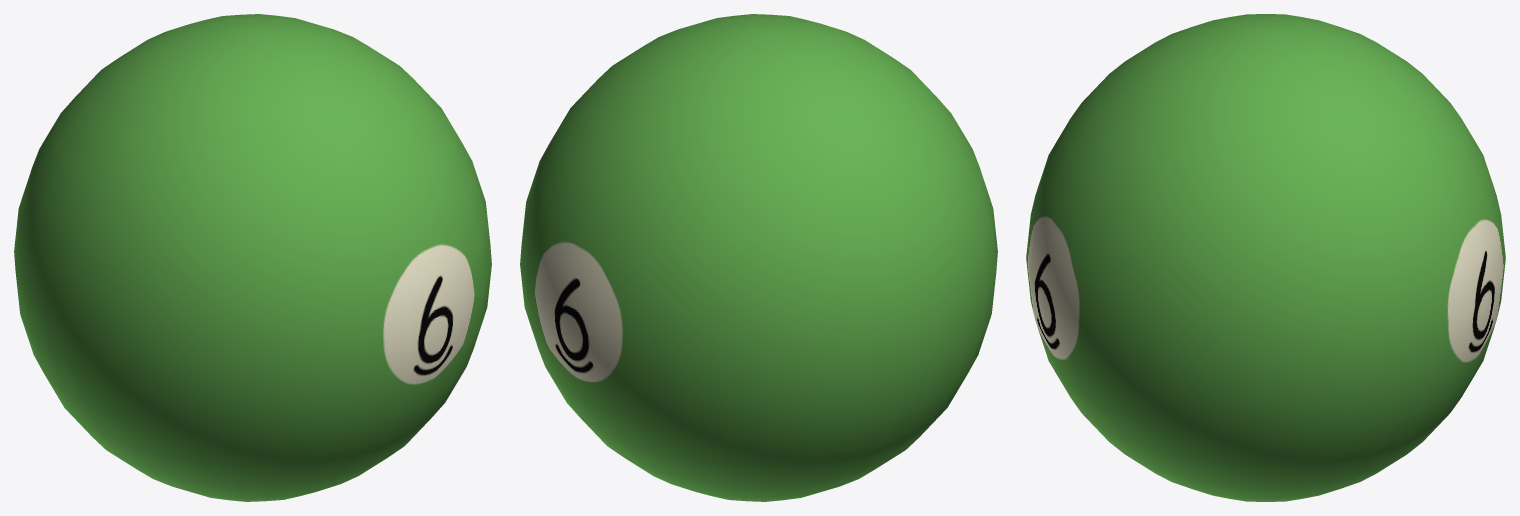
Rendered from ball_06_LOD0.dae.
3 renders of one model, left to right at view 1: azimuth 30°, elevation 25°; view 2: azimuth 150°, elevation 25°; view 3: azimuth 270°, elevation 25°, orthographic.
Visible parts, largest first — view 1: ball_06_LOD0; view 2: ball_06_LOD0; view 3: ball_06_LOD0.
Boxes of the visible parts, x1,y1,x2,y2 form: ball_06_LOD0: [14, 14, 491, 501]; ball_06_LOD0: [520, 14, 997, 501]; ball_06_LOD0: [1026, 14, 1505, 501].
Bounding box in the file's own units: 5.5 × 5.67 × 5.5.
